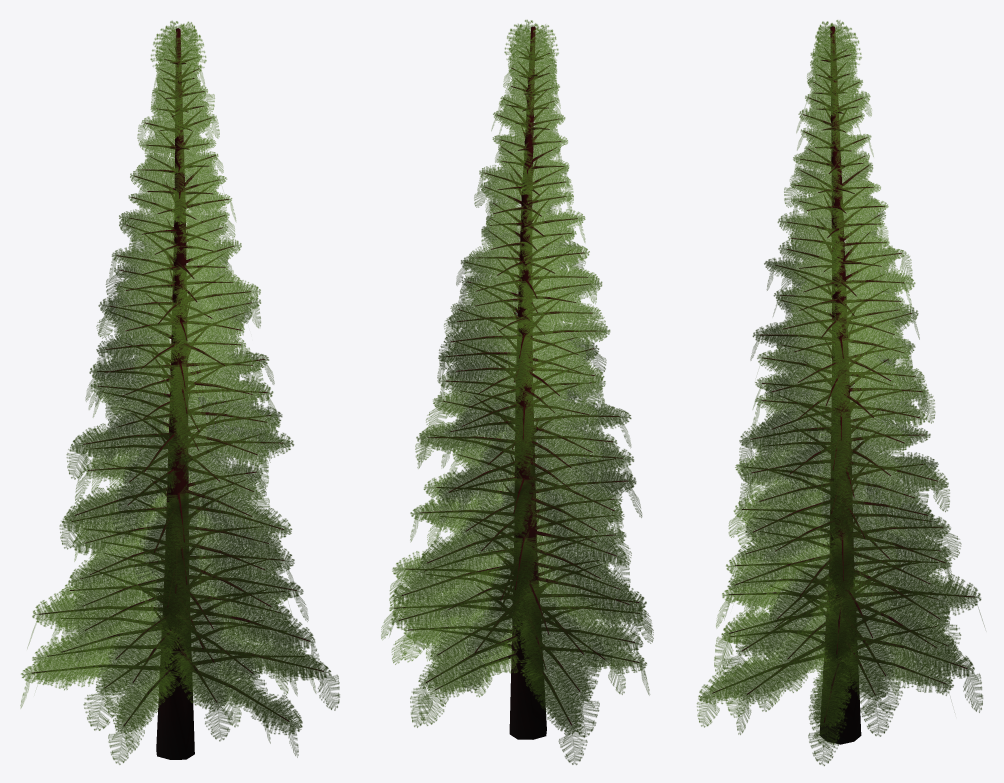
Rendered from larch_sparse_v02_LOD1.glb.
3 views of the same model, side by side, from view 1: azimuth 30°, elevation 25°; view 2: azimuth 150°, elevation 25°; view 3: azimuth 270°, elevation 25° (orthographic). The views are drawn at different scales.
Visible parts, largest first — view 1: larch_sparse_v02_LOD1; view 2: larch_sparse_v02_LOD1; view 3: larch_sparse_v02_LOD1.
Part boxes in pixels (box(x1,y1,x2,y2)): larch_sparse_v02_LOD1: box(20, 20, 339, 764); larch_sparse_v02_LOD1: box(381, 20, 653, 764); larch_sparse_v02_LOD1: box(697, 20, 984, 765).
Bounding box in the file's own units: 6.25 × 17.21 × 6.56.
2 materials, 2 textured.
